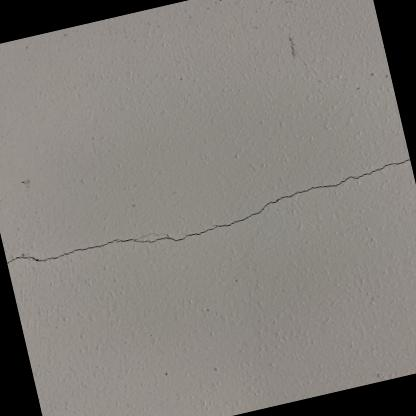crack: (7, 158, 410, 263)
